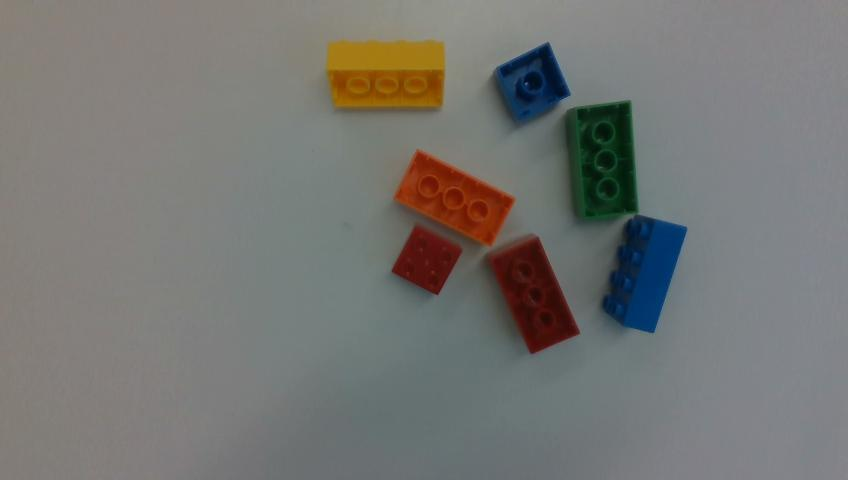2x2_blue: (495, 42, 570, 124)
2x2_red: (392, 225, 462, 294)
4x2_blue: (603, 215, 686, 332)
4x2_green: (566, 102, 637, 220)
4x2_orange: (395, 150, 515, 245)
4x2_red: (488, 237, 579, 353)
4x2_yellow: (326, 40, 445, 108)
